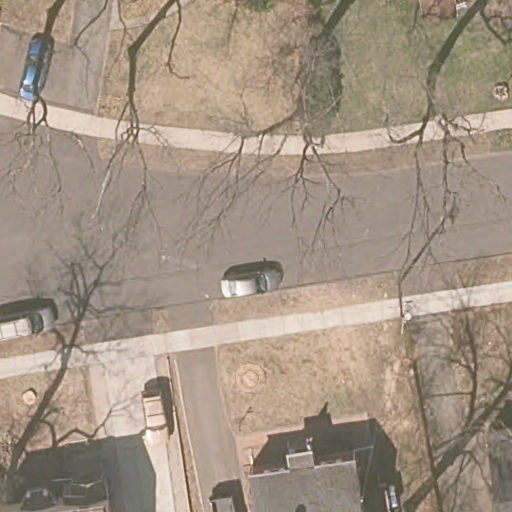DT: (393, 279, 412, 334)
